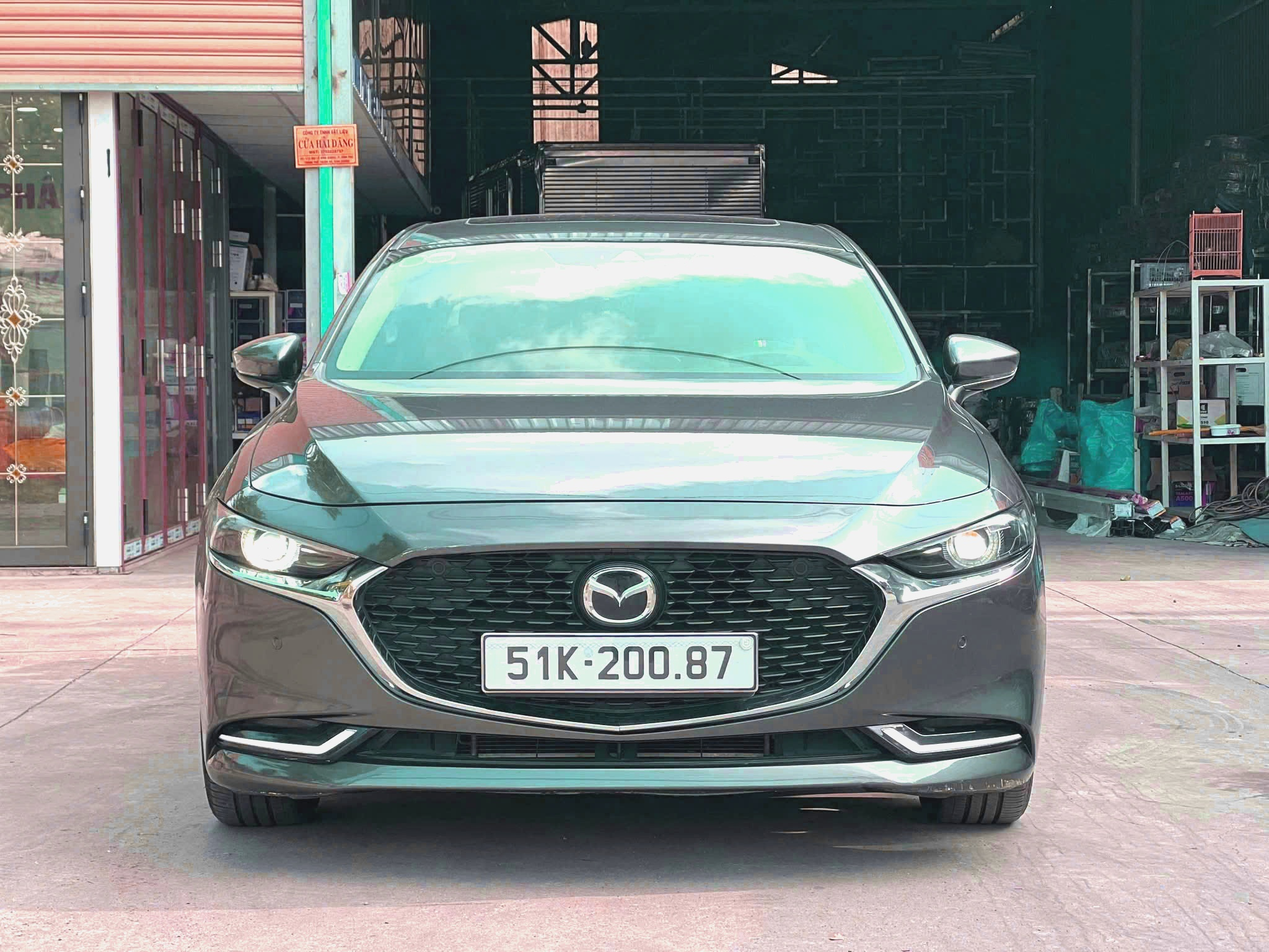Bien-so: (463, 603, 746, 671)
